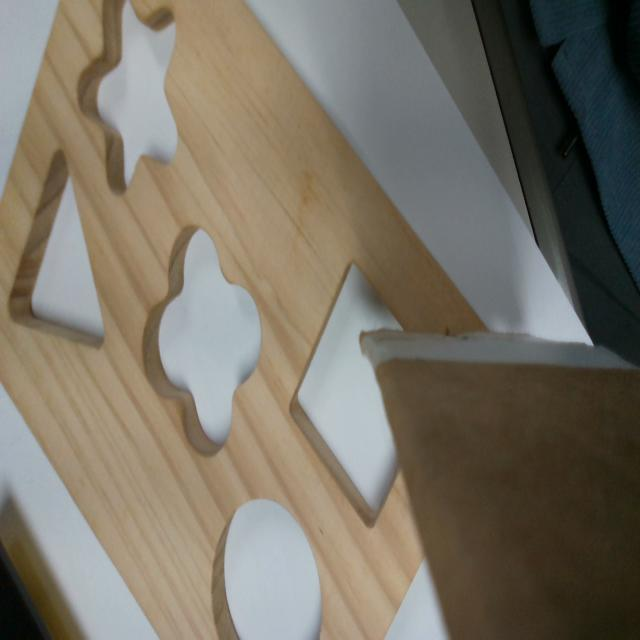circle: (215, 502, 322, 639)
flower: (143, 227, 262, 454)
square: (293, 260, 406, 529)
star: (76, 1, 178, 193)
triangle: (8, 149, 107, 351)
